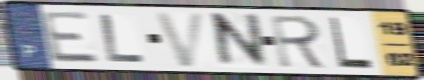E: (39, 10, 103, 65)
L: (97, 12, 148, 64), (328, 15, 375, 71)
N: (212, 11, 270, 70)
R: (269, 13, 330, 70)
V: (152, 11, 209, 69)
